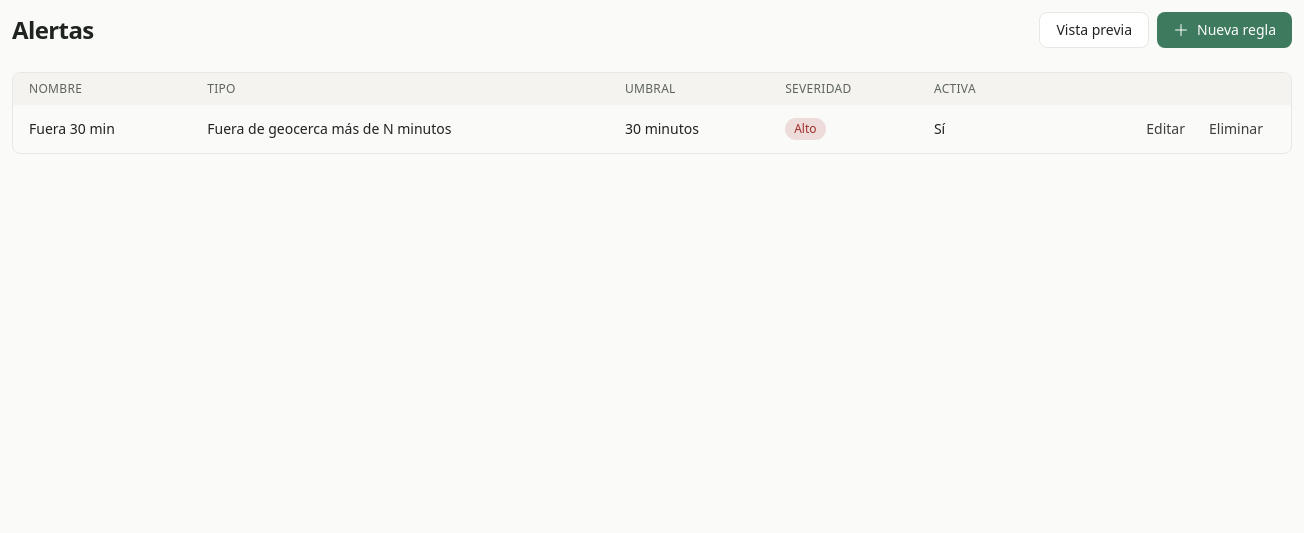
Test: la unidad de la etiqueta cambia con el tipo
This screenshot has width=1304, height=533.
Click the button "Nueva regla" at (1224, 30), box [1157,12,1292,48]
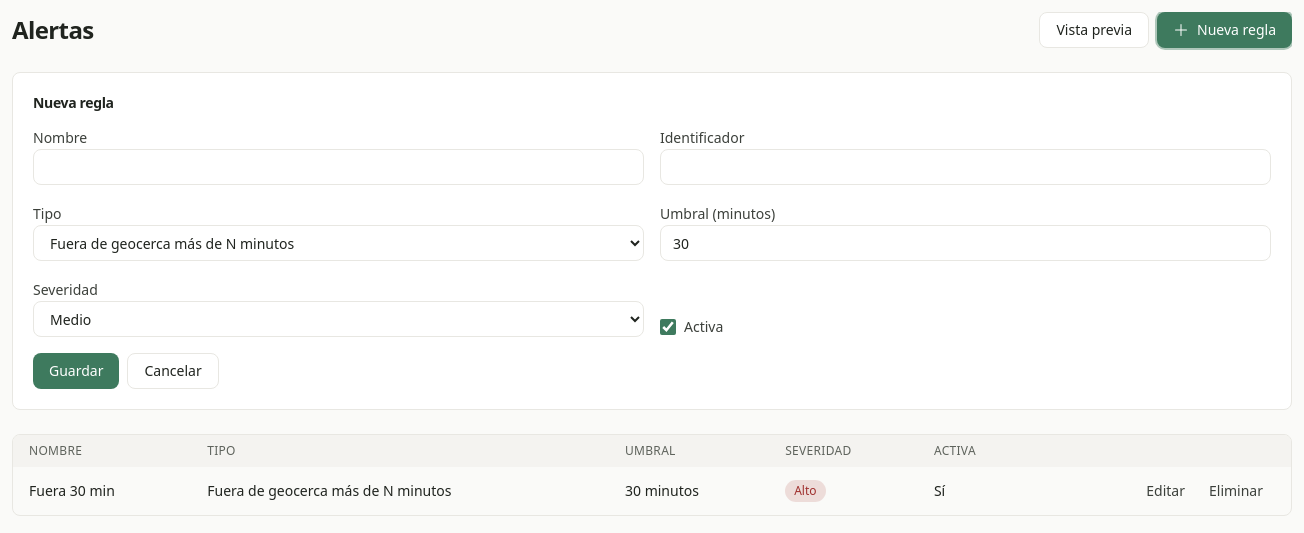
Now the number field labelled "Umbral (minutos)" is shown, box [660,225,1271,261]
Select "Batería por debajo de N %" in the dropdown labelled "Tipo" at (338, 243), box [33,225,644,261]
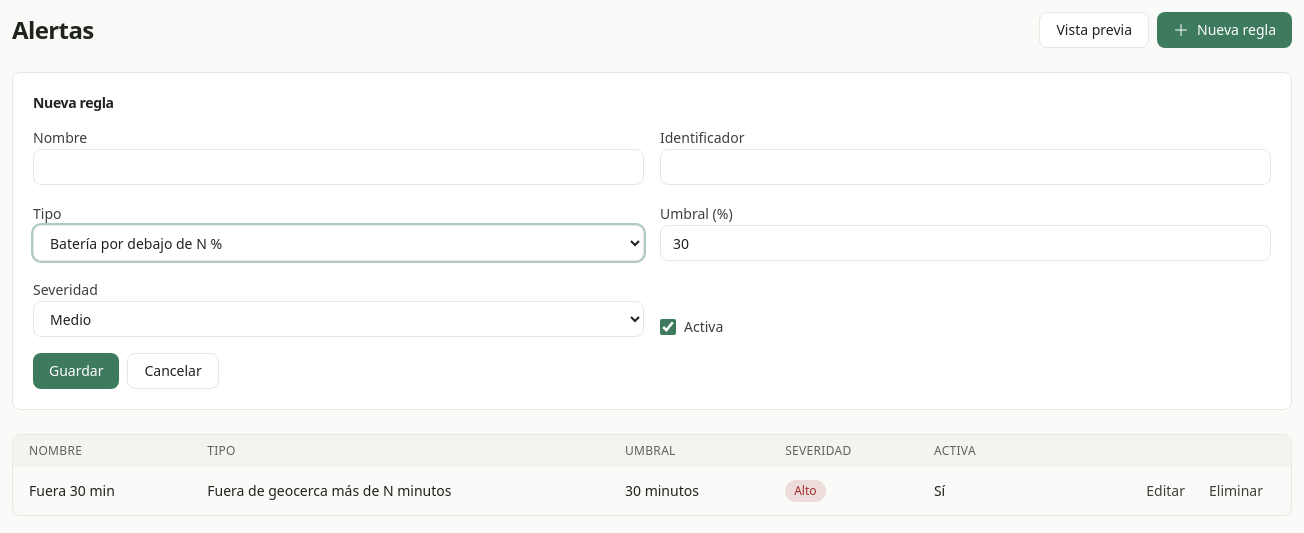
Now the number field labelled "Umbral (%)" is shown, box [660,225,1271,261]
Select "Almacenamiento libre por debajo de N GB" in the dropdown labelled "Tipo" at (338, 243), box [33,225,644,261]
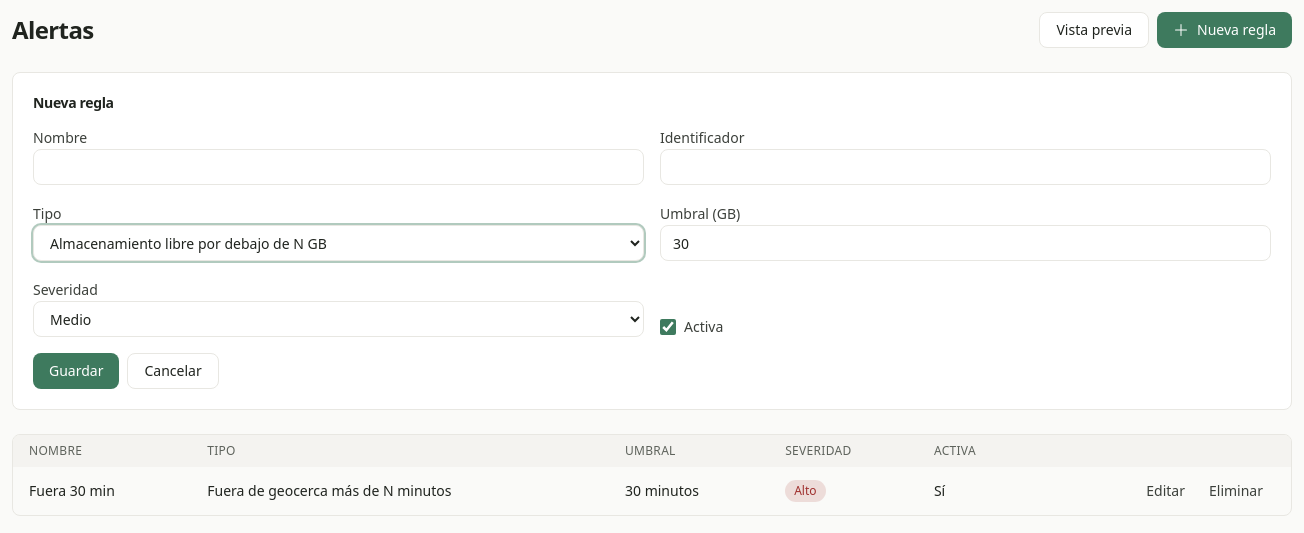
Now the number field labelled "Umbral (GB)" is shown, box [660,225,1271,261]
Select "Dispositivo que incumple" in the dropdown labelled "Tipo" at (338, 243), box [33,225,644,261]
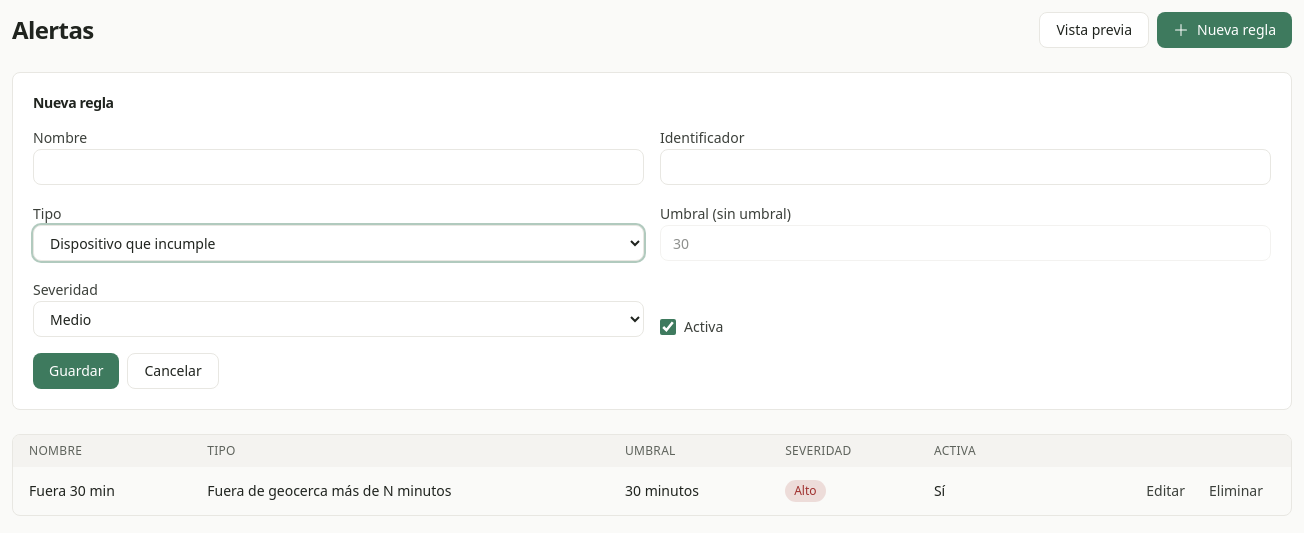
Now the number field labelled "Umbral (sin umbral)" is disabled, box [660,225,1271,261]
